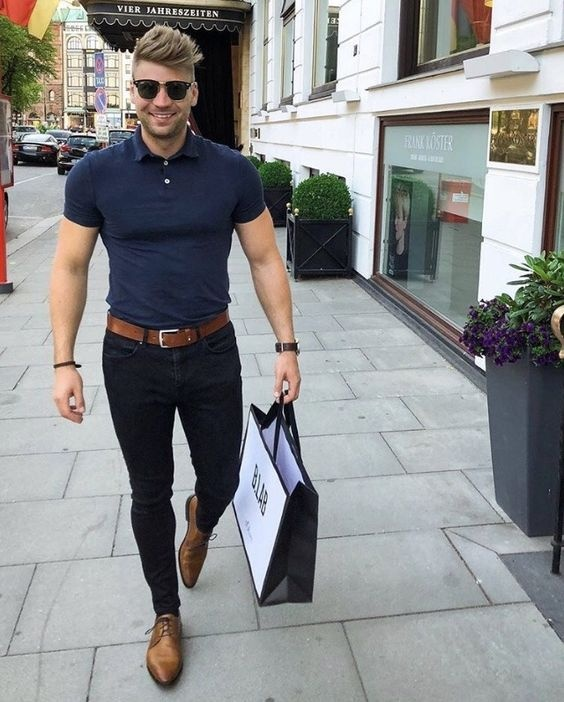C_polo shirt: (64, 132, 268, 326)
F_belt: (99, 313, 244, 345)
F_dress pants: (101, 317, 242, 610)
